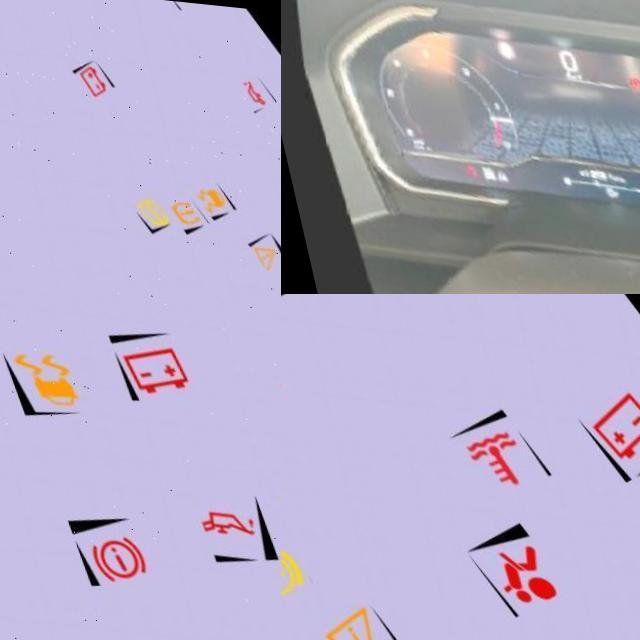Low fuel level: (578, 178, 593, 192)
